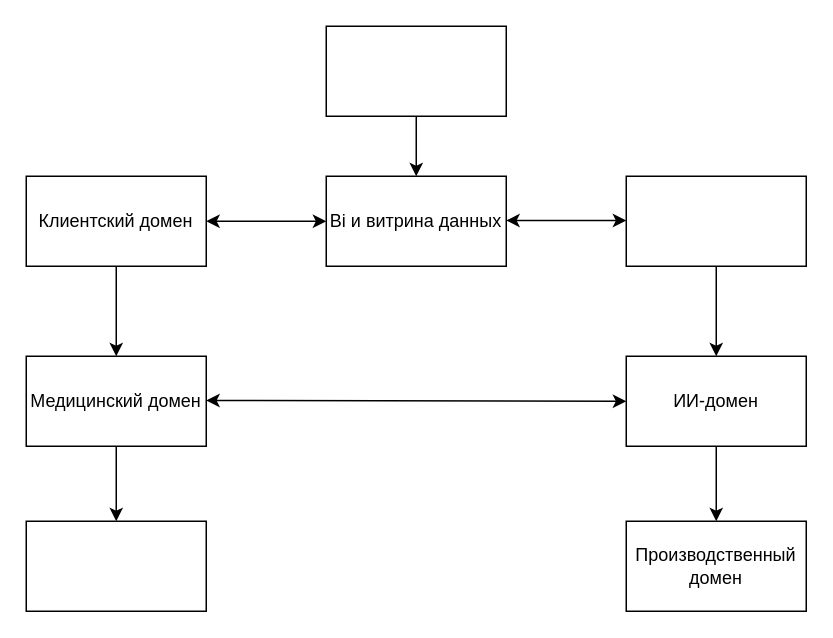
Some shapes in this 833 by 638 pixel diagram are drawn without their labels. Here are the shapes that lost their labels. From the top down, the centre of each, then its label:
At pixel 415 70: "Центральный справочник".
At pixel 715 220: "Финансовый домен".
At pixel 115 565: "Формацевтический домен".
